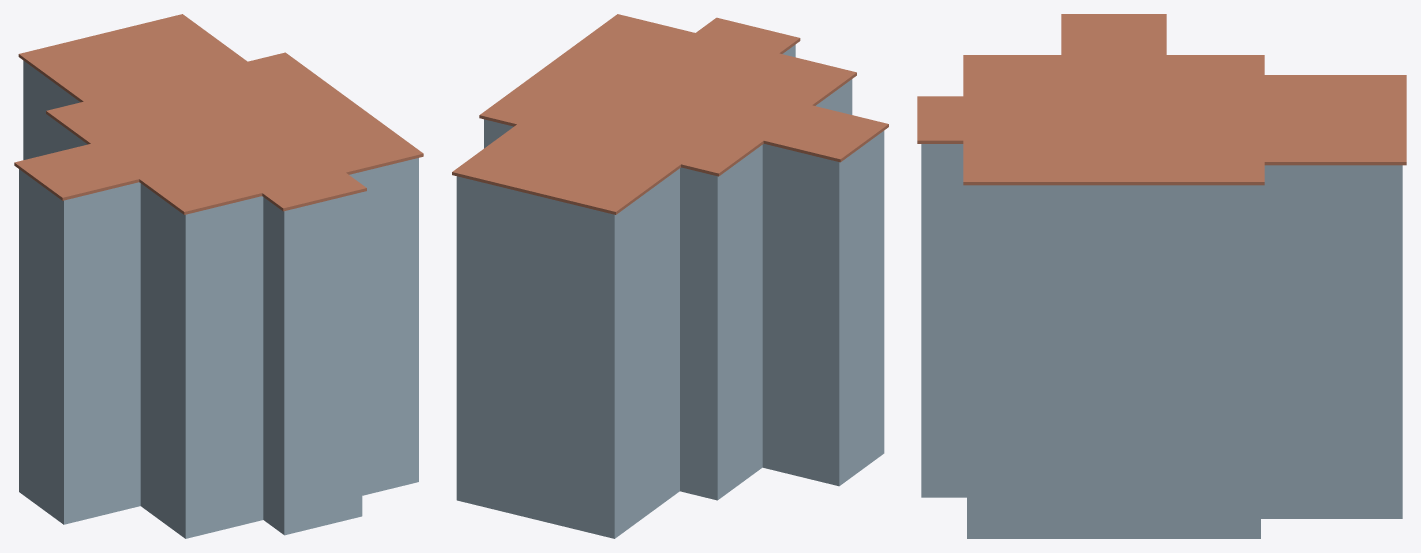
The model's file is building.glb.
3 renders of one model, left to right at view 1: azimuth 30°, elevation 25°; view 2: azimuth 150°, elevation 25°; view 3: azimuth 270°, elevation 25°, orthographic. The views are drawn at different scales.
Parts seen in each view (by area): view 1: A08; view 2: A08; view 3: A08.
Boxes of the visible parts, x1,y1,x2,y2 form: A08: [14, 14, 423, 538]; A08: [452, 14, 888, 538]; A08: [917, 14, 1406, 538].
Size of the model in its own units: 16.25 by 16.15 by 19.97.
